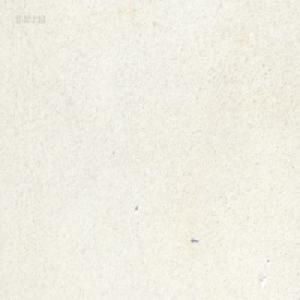Nail: (191, 237, 198, 242)
